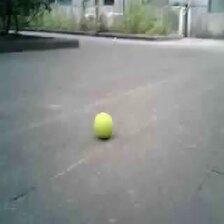tennis: (91, 113, 113, 138)
